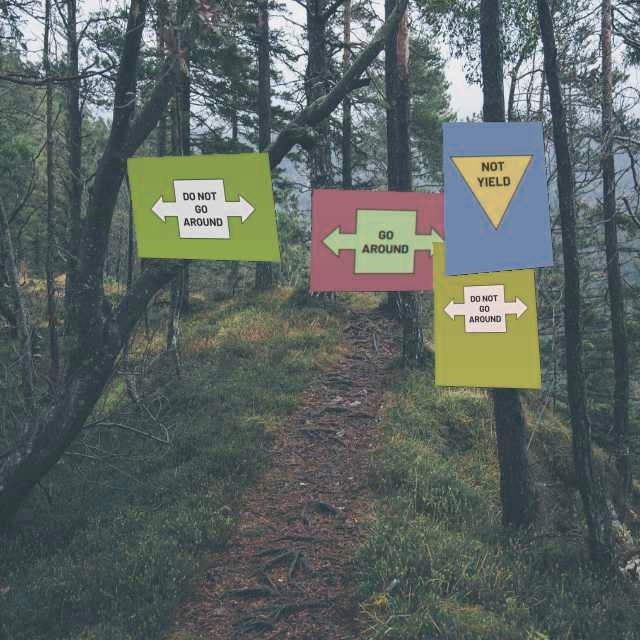DO_NOT_GO_AROUND: (147, 178, 259, 240), (442, 283, 530, 333)
GO_AROUND: (320, 203, 449, 278)
NOT_YIELD: (450, 151, 539, 234)
